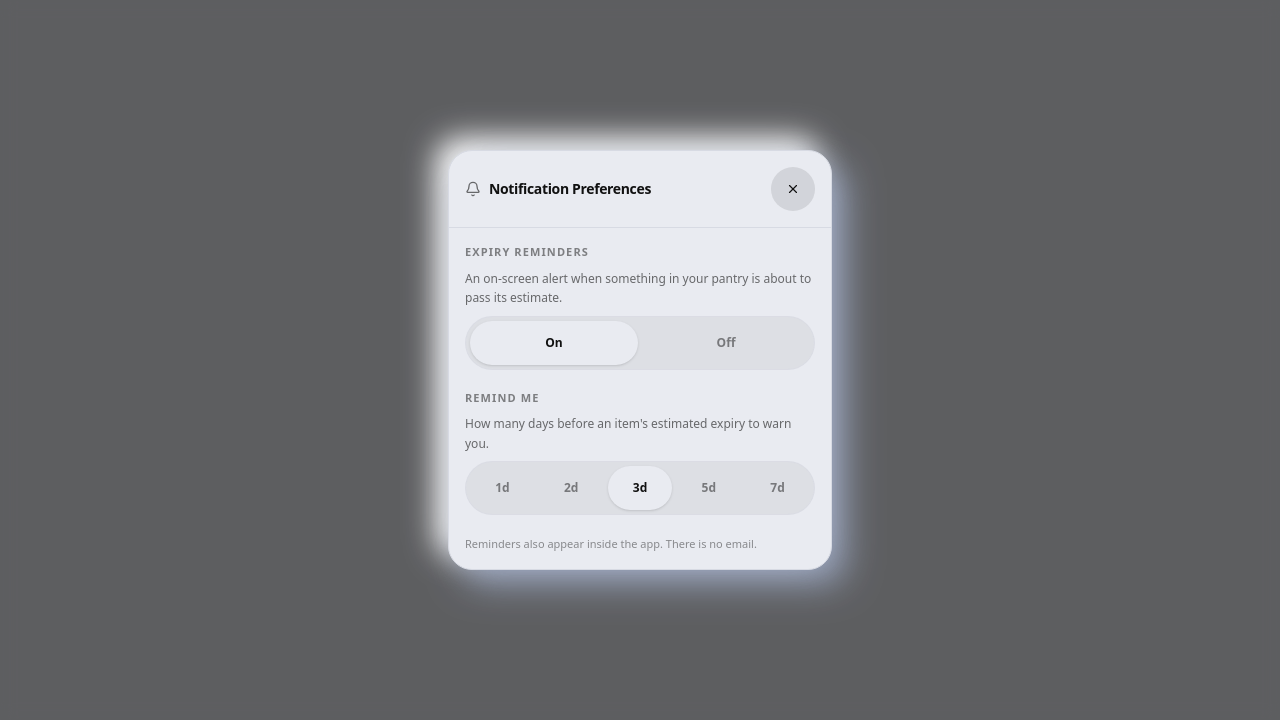
Test: NotificationPreferencesModal — saving › saves the toggle immediately on click, to user_metadata
Click the button "Off": point(726, 343) [642,321,810,365]
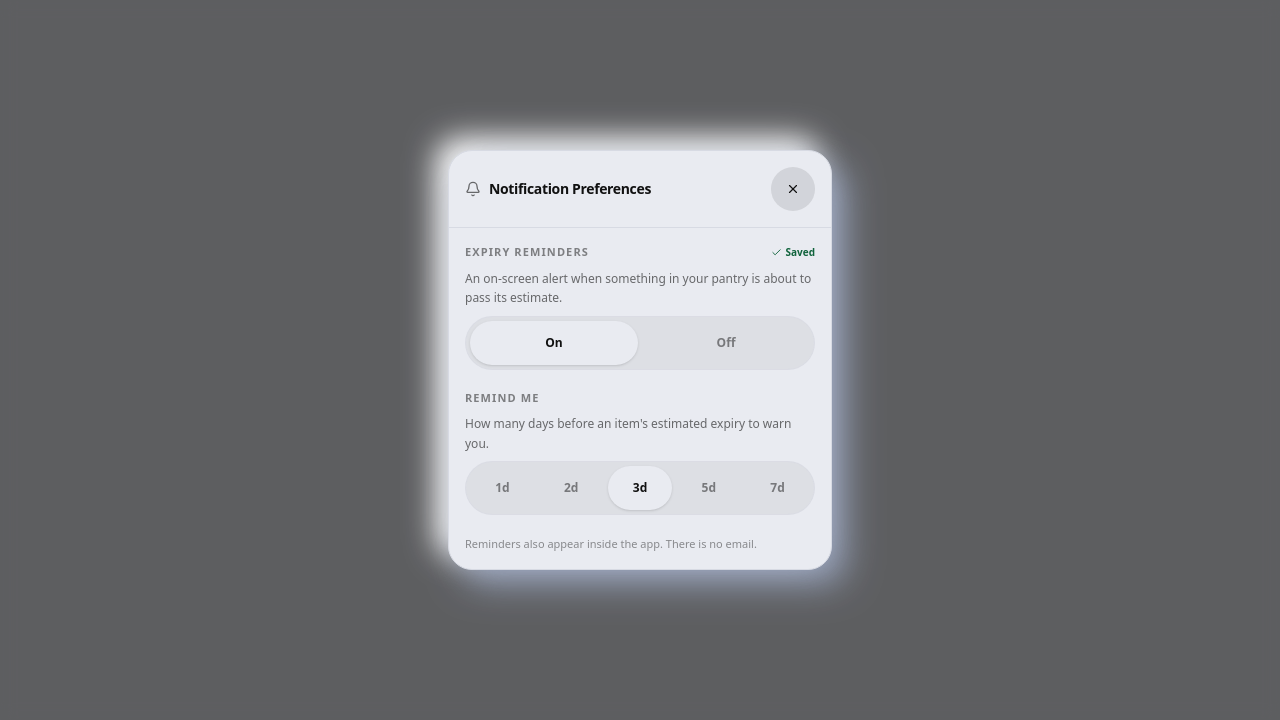
Expected: the text "Saved" is shown once, [770,245,815,260]
